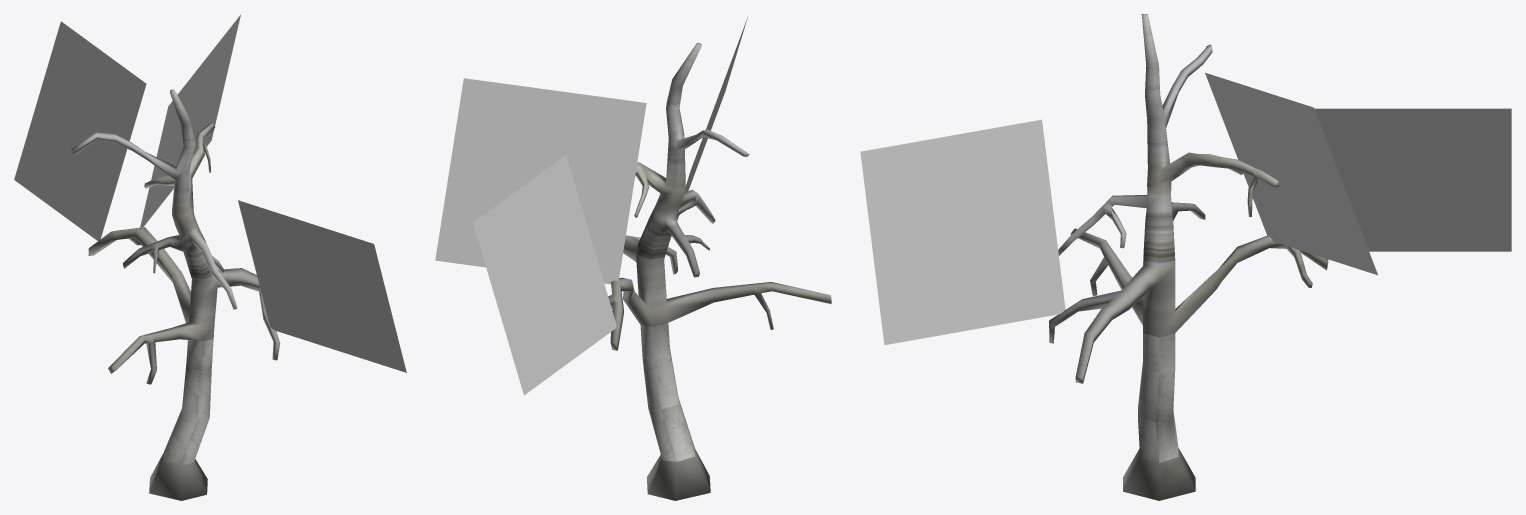
Rendered from deadtree1test.fbx.
3 views of the same model, side by side, from view 1: azimuth 30°, elevation 25°; view 2: azimuth 150°, elevation 25°; view 3: azimuth 270°, elevation 25° (orthographic). The views are drawn at different scales.
Visible parts, largest first — view 1: Cube, Plane.002, Plane, Plane.001; view 2: Plane.001, Plane, Cube, Plane.002; view 3: Plane.002, Cube, Plane, Plane.001.
Boxes of the visible parts, bbox=[...] form: Cube: bbox=[71, 89, 280, 500]; Plane.002: bbox=[238, 200, 406, 372]; Plane: bbox=[14, 21, 146, 240]; Plane.001: bbox=[139, 14, 240, 229]; Plane.001: bbox=[435, 78, 646, 284]; Plane: bbox=[473, 155, 616, 395]; Cube: bbox=[608, 43, 831, 500]; Plane.002: bbox=[671, 17, 747, 236]; Plane.002: bbox=[860, 119, 1065, 345]; Cube: bbox=[1049, 14, 1328, 500]; Plane: bbox=[1315, 108, 1511, 251]; Plane.001: bbox=[1205, 72, 1377, 275].
Bounding box in the file's own units: 1045 × 1561 × 1985.
